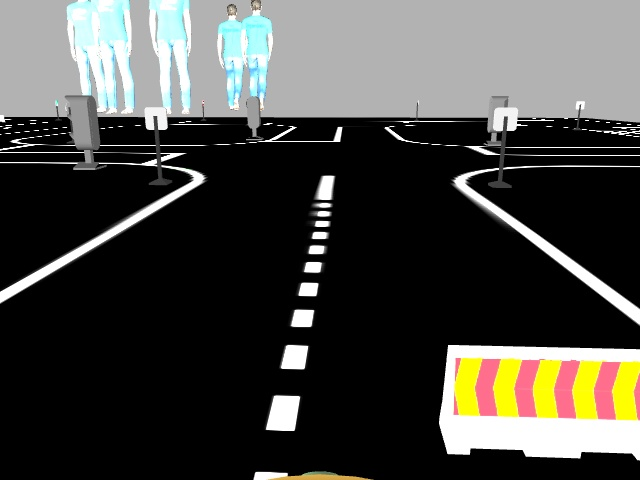ClosedRoadStand: (448, 344, 636, 448)
